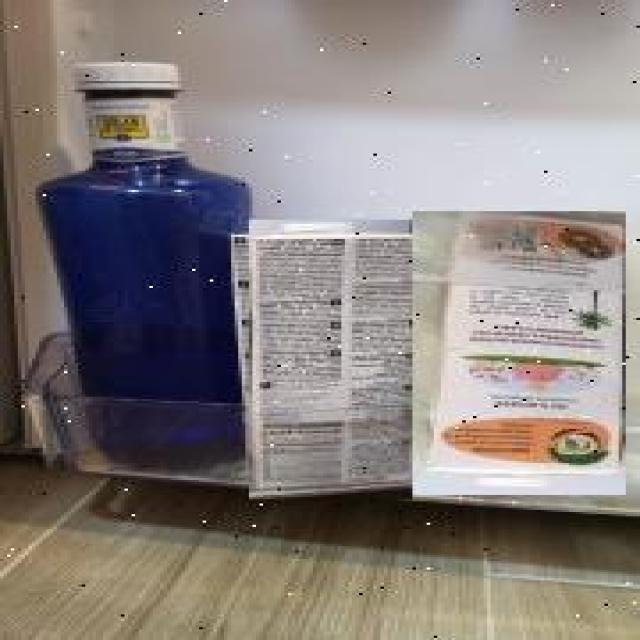milk: (414, 211, 628, 495), (249, 220, 412, 500)
